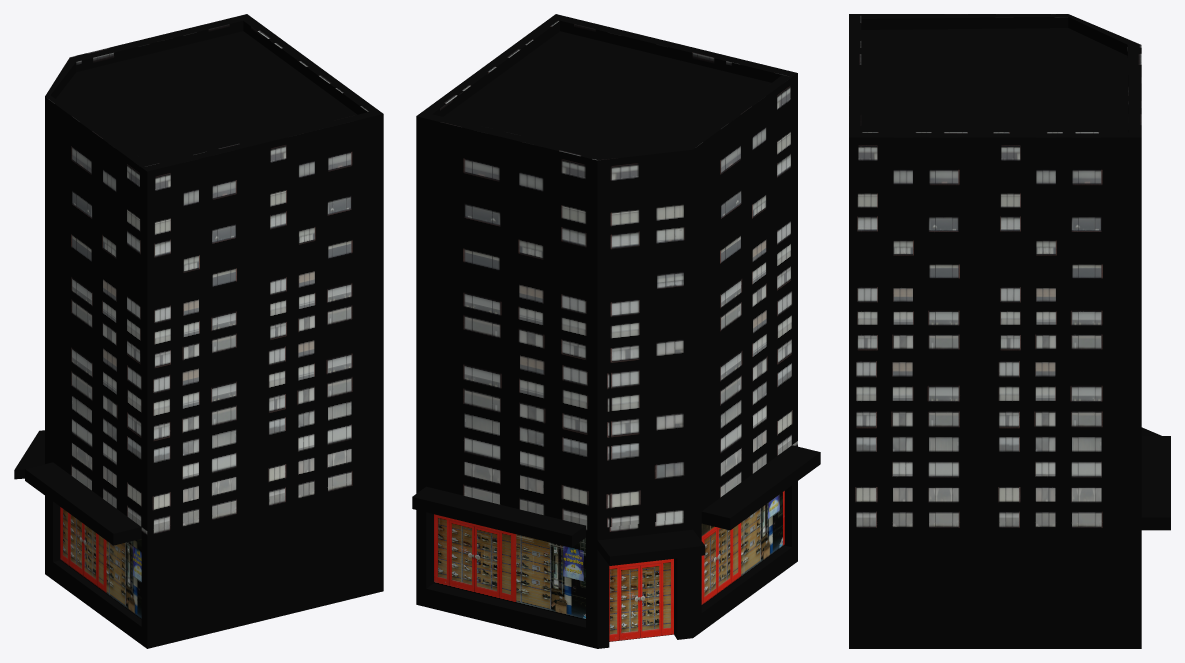
Rendered from building15.FBX.
3 views of the same model, side by side, from view 1: azimuth 30°, elevation 25°; view 2: azimuth 150°, elevation 25°; view 3: azimuth 270°, elevation 25° (orthographic). The views are drawn at different scales.
Parts seen in each view (by area): view 1: Box001; view 2: Box001; view 3: Box001.
Part boxes in pixels (x1,y1,x2,y2): Box001: (14, 14, 383, 648); Box001: (412, 14, 820, 648); Box001: (849, 14, 1170, 648).
Size of the model in its own units: 62.65 by 108 by 61.63.
